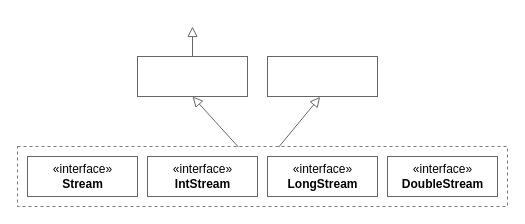
The diagram is 525 pixels wide and 224 high, and some of its shapes have lost their labels. The centre of each missing label's shape, as x and y in pixels:
«interface» AutoCloseable: the point at 322,76
«interface» BaseStream: the point at 192,76
